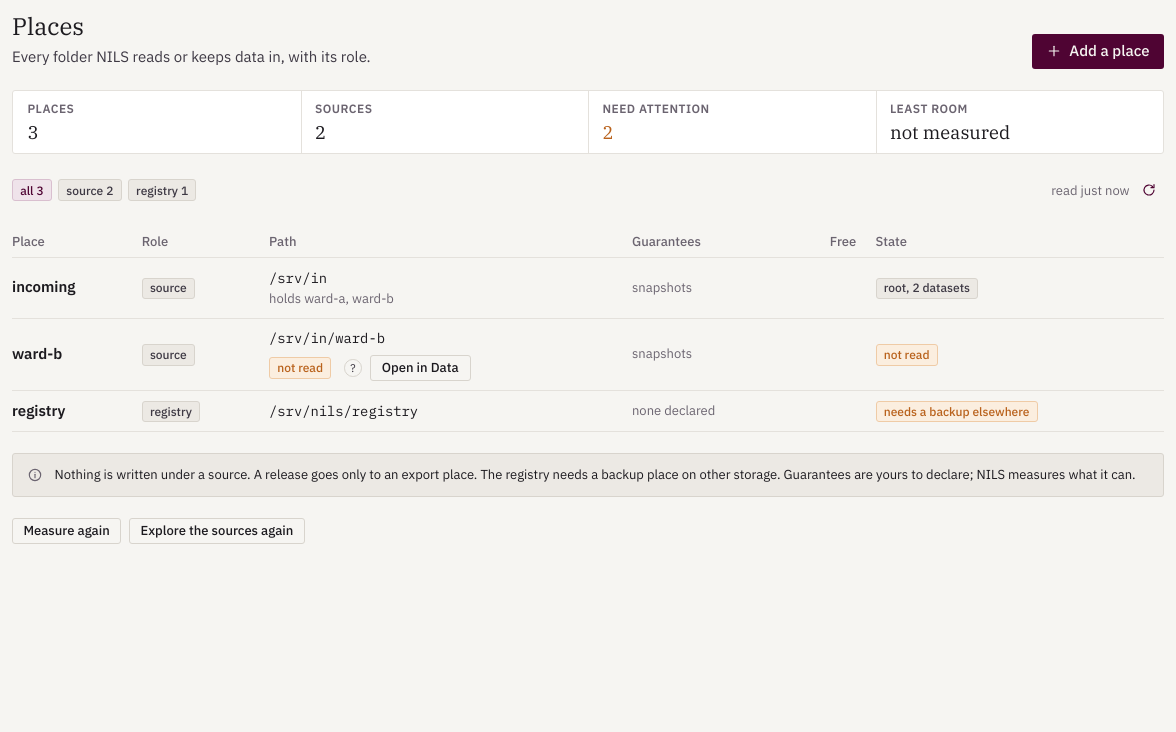
exploring the sources again (2026-10-10) › is the POST that needs Places and Data work, never a read, and says plainly what it could not do
Click the button "Explore the sources again" at (217, 531), box [129,518,305,544]
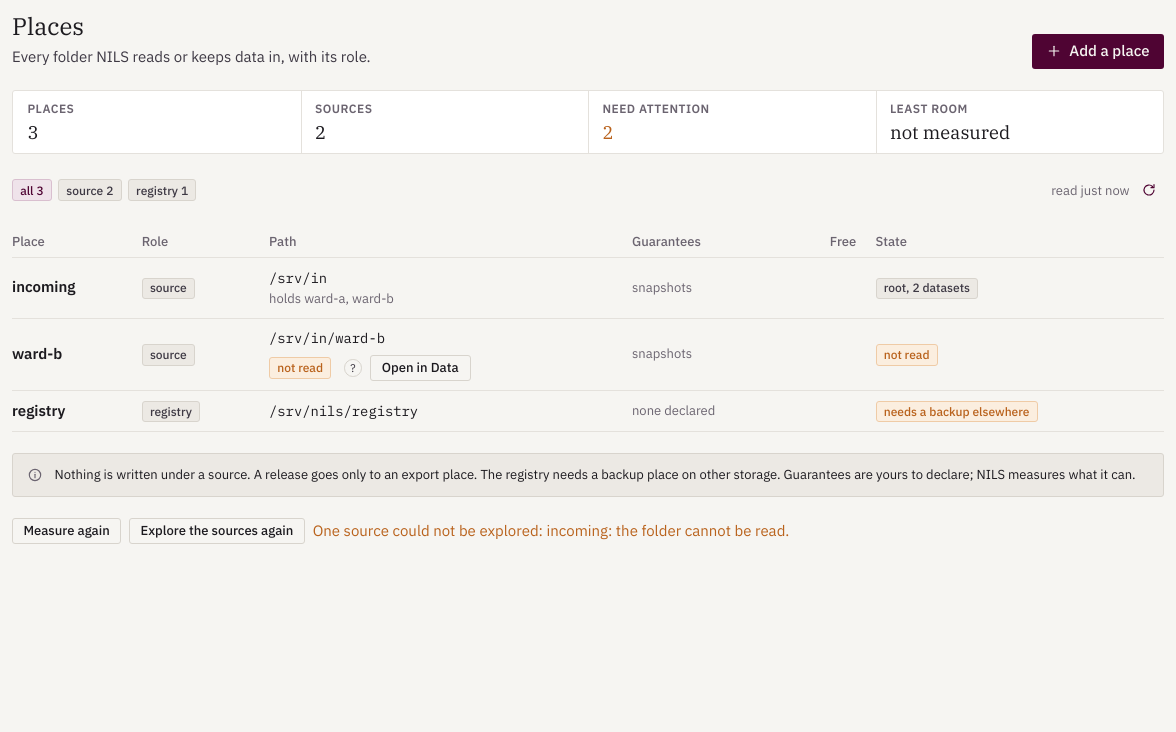
Now the text with class "warn" reads "One source could not be explored: incoming: the folder cannot be read.", box [313,521,789,540]
